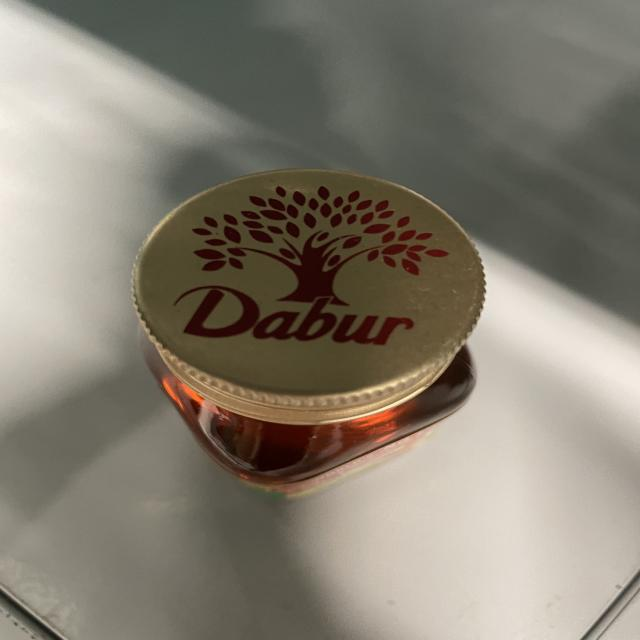object_name: (142, 173, 482, 497)
